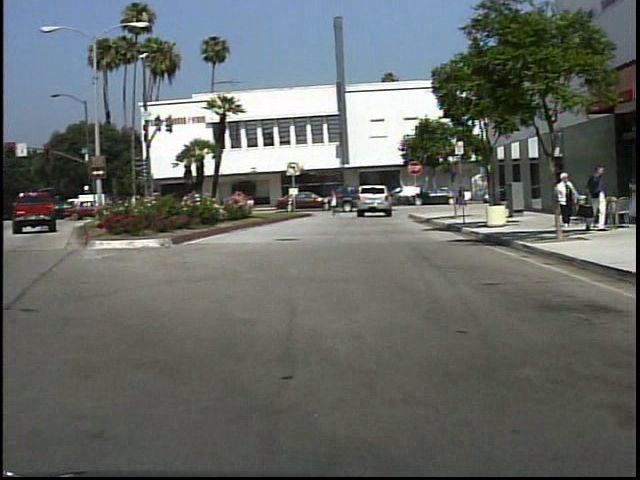person: (586, 163, 611, 234), (556, 172, 581, 227), (452, 180, 476, 214), (329, 186, 345, 219)
